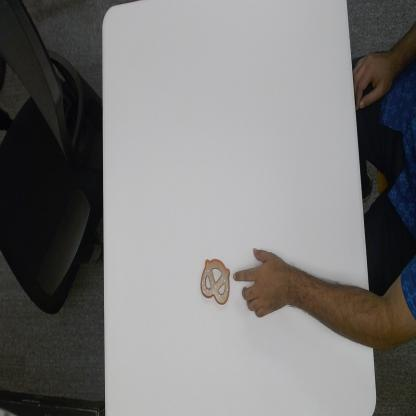Arm: (290, 259, 416, 353)
Hand: (233, 240, 289, 320)
Pretzel: (198, 253, 232, 308)
